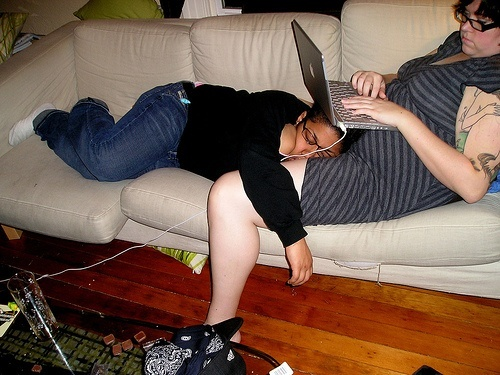head: (449, 1, 500, 65), (291, 111, 344, 160)
person: (7, 53, 478, 354), (334, 1, 500, 225)
